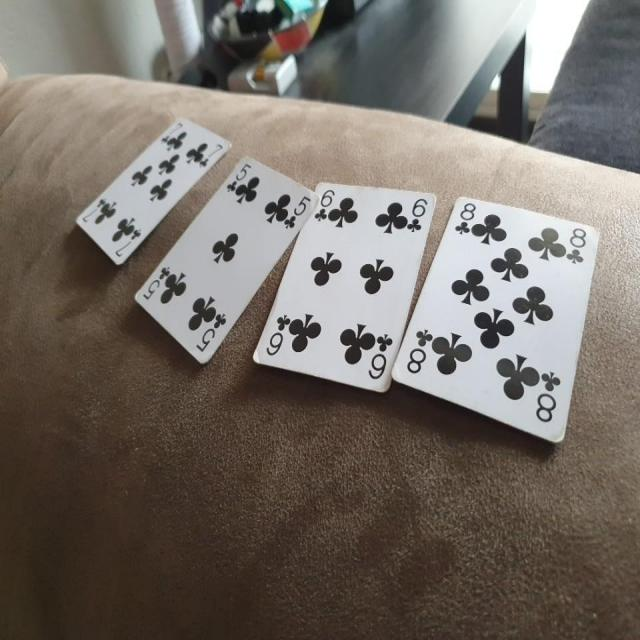5 Trefoils: (132, 154, 320, 364)
6 Trefoils: (252, 178, 438, 397)
7 Trefoils: (74, 116, 230, 272)
8 Trefoils: (390, 198, 598, 444)
